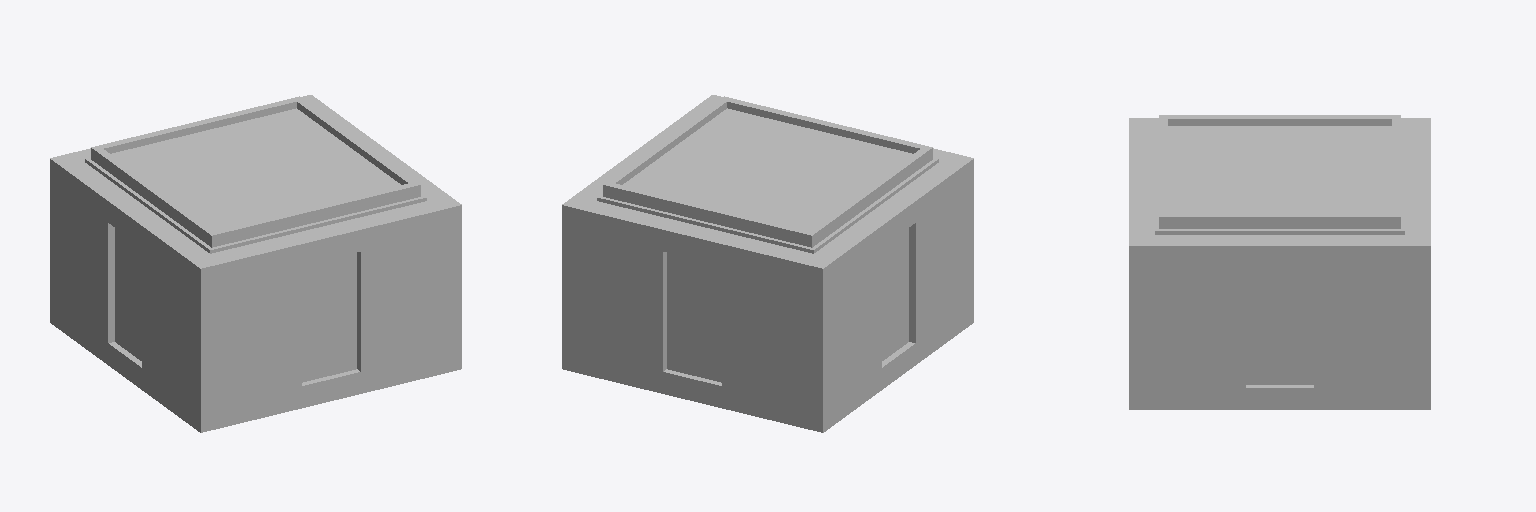
Rendered from solarcell.obj.
3 renders of one model, left to right at view 1: azimuth 30°, elevation 25°; view 2: azimuth 150°, elevation 25°; view 3: azimuth 270°, elevation 25°, orthographic.
Visible parts, largest first — view 1: Cube_Cube.002, Cube.002_Cube.001, Cube.003_Cube.005, Cube.001_Cube.001, Cube.002_Cube.004; view 2: Cube_Cube.002, Cube.002_Cube.001, Cube.003_Cube.005, Cube.001_Cube.001, Cube.002_Cube.004; view 3: Cube_Cube.002, Cube.002_Cube.001, Cube.003_Cube.005, Cube.001_Cube.001, Cube.002_Cube.004.
Boxes of the visible parts, x1=… form: Cube_Cube.002: x1=50, y1=95, x2=461, y2=432; Cube.002_Cube.001: x1=111, y1=108, x2=400, y2=229; Cube.003_Cube.005: x1=91, y1=96, x2=420, y2=247; Cube.001_Cube.001: x1=115, y1=228, x2=356, y2=382; Cube.002_Cube.004: x1=85, y1=157, x2=426, y2=253; Cube_Cube.002: x1=562, y1=95, x2=973, y2=432; Cube.002_Cube.001: x1=623, y1=108, x2=912, y2=229; Cube.003_Cube.005: x1=603, y1=96, x2=932, y2=247; Cube.001_Cube.001: x1=667, y1=228, x2=908, y2=382; Cube.002_Cube.004: x1=597, y1=157, x2=938, y2=253; Cube_Cube.002: x1=1129, y1=118, x2=1430, y2=409; Cube.002_Cube.001: x1=1168, y1=126, x2=1391, y2=212; Cube.003_Cube.005: x1=1159, y1=115, x2=1400, y2=228; Cube.001_Cube.001: x1=1246, y1=267, x2=1313, y2=384; Cube.002_Cube.004: x1=1155, y1=125, x2=1404, y2=234.
Bounding box in the file's own units: 10 × 6.57 × 10.